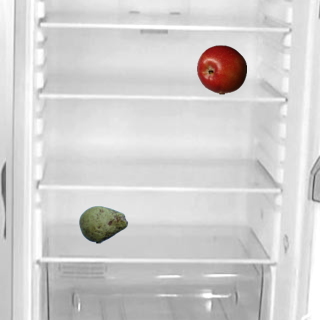Apple Braeburn: (196, 44, 246, 94)
Pear Stone: (78, 199, 128, 249)
